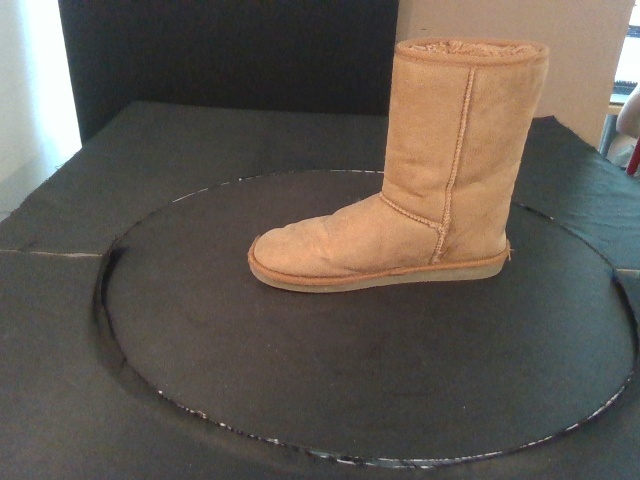shoe: (247, 37, 551, 294)
